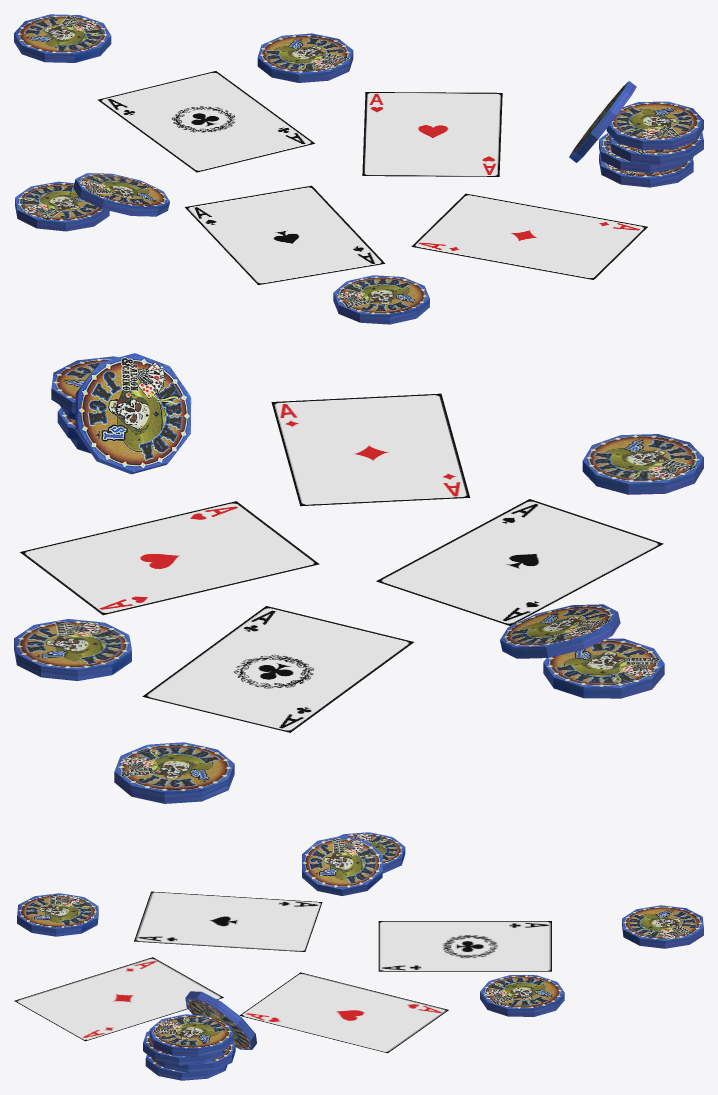
File: world.dae
The picture shows the model from 3 angles, top to bottom: view 1: azimuth 30°, elevation 25°; view 2: azimuth 150°, elevation 25°; view 3: azimuth 270°, elevation 25°; orthographic projection. The views are drawn at different scales.
Visible parts, largest first — view 1: diamondsAce, heartsAce, clubsAce, spadesAce, marker9, marker8, marker10, marker6, marker1, marker2, marker5, marker3 (+2 smaller); view 2: spadesAce, heartsAce, diamondsAce, clubsAce, marker7, marker10, marker9, marker8, marker1, marker2, marker6; view 3: spadesAce, heartsAce, clubsAce, diamondsAce, marker2, marker8, marker10, marker9, marker6, marker7, marker1, marker5 (+2 smaller).
Part boxes in pixels (x1=…): diamondsAce: x1=411, y1=193, x2=647, y2=279; heartsAce: x1=362, y1=92, x2=502, y2=176; clubsAce: x1=97, y1=71, x2=314, y2=172; spadesAce: x1=185, y1=185, x2=384, y2=284; marker9: x1=14, y1=14, x2=111, y2=62; marker8: x1=257, y1=33, x2=353, y2=82; marker10: x1=333, y1=275, x2=429, y2=324; marker6: x1=606, y1=101, x2=703, y2=149; marker1: x1=15, y1=181, x2=109, y2=231; marker2: x1=73, y1=173, x2=169, y2=216; marker5: x1=609, y1=132, x2=703, y2=165; marker3: x1=599, y1=153, x2=693, y2=187; spadesAce: x1=376, y1=499, x2=663, y2=625; heartsAce: x1=20, y1=501, x2=319, y2=615; diamondsAce: x1=271, y1=393, x2=470, y2=506; clubsAce: x1=142, y1=606, x2=413, y2=732; marker7: x1=75, y1=353, x2=191, y2=474; marker10: x1=582, y1=434, x2=703, y2=494; marker9: x1=114, y1=742, x2=234, y2=803; marker8: x1=14, y1=619, x2=131, y2=680; marker1: x1=543, y1=638, x2=664, y2=698; marker2: x1=500, y1=604, x2=620, y2=658; marker6: x1=51, y1=356, x2=118, y2=413; spadesAce: x1=134, y1=891, x2=322, y2=951; heartsAce: x1=239, y1=972, x2=448, y2=1053; clubsAce: x1=378, y1=921, x2=551, y2=971; diamondsAce: x1=14, y1=957, x2=223, y2=1041; marker2: x1=302, y1=835, x2=382, y2=895; marker8: x1=480, y1=975, x2=564, y2=1016; marker10: x1=17, y1=893, x2=98, y2=936; marker9: x1=622, y1=905, x2=703, y2=948; marker6: x1=149, y1=1014, x2=233, y2=1057; marker7: x1=185, y1=991, x2=256, y2=1049; marker1: x1=339, y1=832, x2=405, y2=873; marker5: x1=143, y1=1031, x2=224, y2=1065.
Bounding box in the file's own units: 8.22 × 1.06 × 9.76.
Materials: 5 (5 with a texture image).
